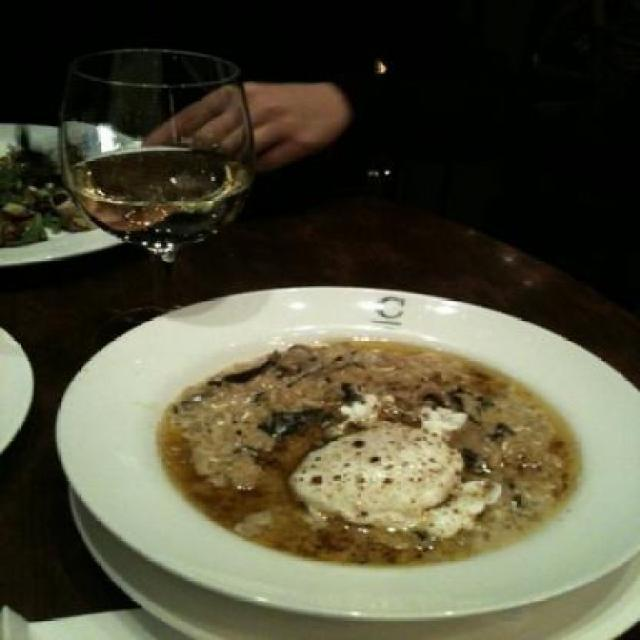Risotto: (162, 326, 586, 568)
